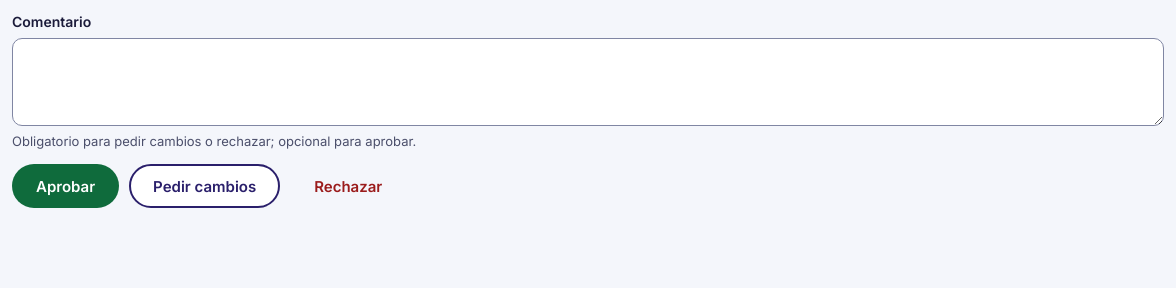
Test case: DecisionForm › exige comentario para pedir cambios
This screenshot has width=1176, height=288.
Click the button "Pedir cambios" at point(205, 186), box [129,164,280,208]
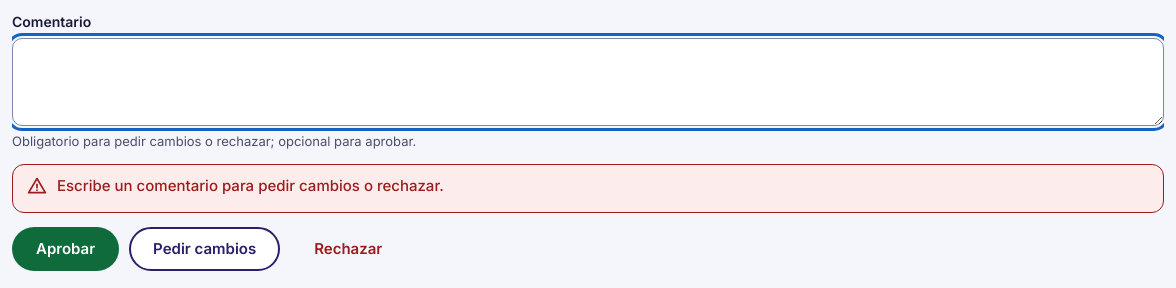
Expected: the message reads "Escribe un comentario para pedir cambios o rechazar.", [57,176,444,195]
